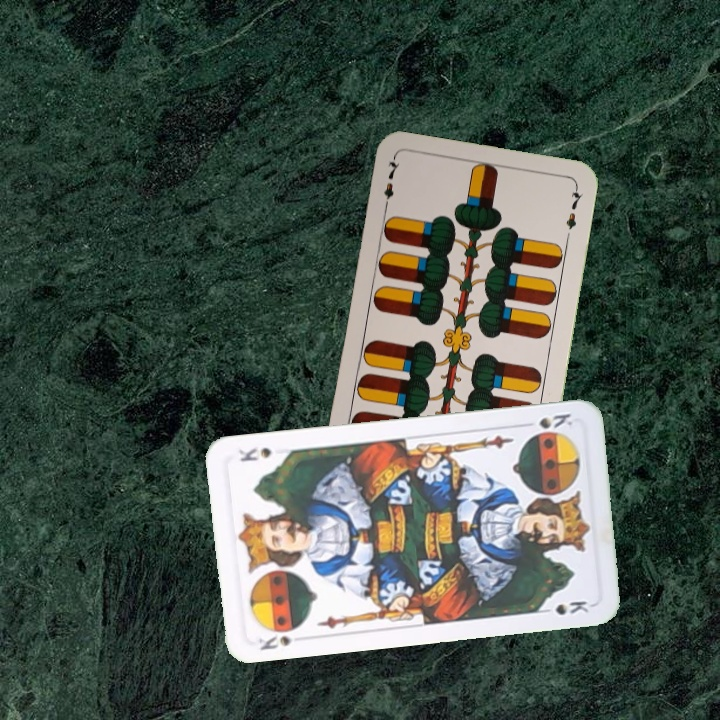E7: (379, 155, 403, 214)
SK: (535, 409, 575, 431), (254, 632, 295, 653)
